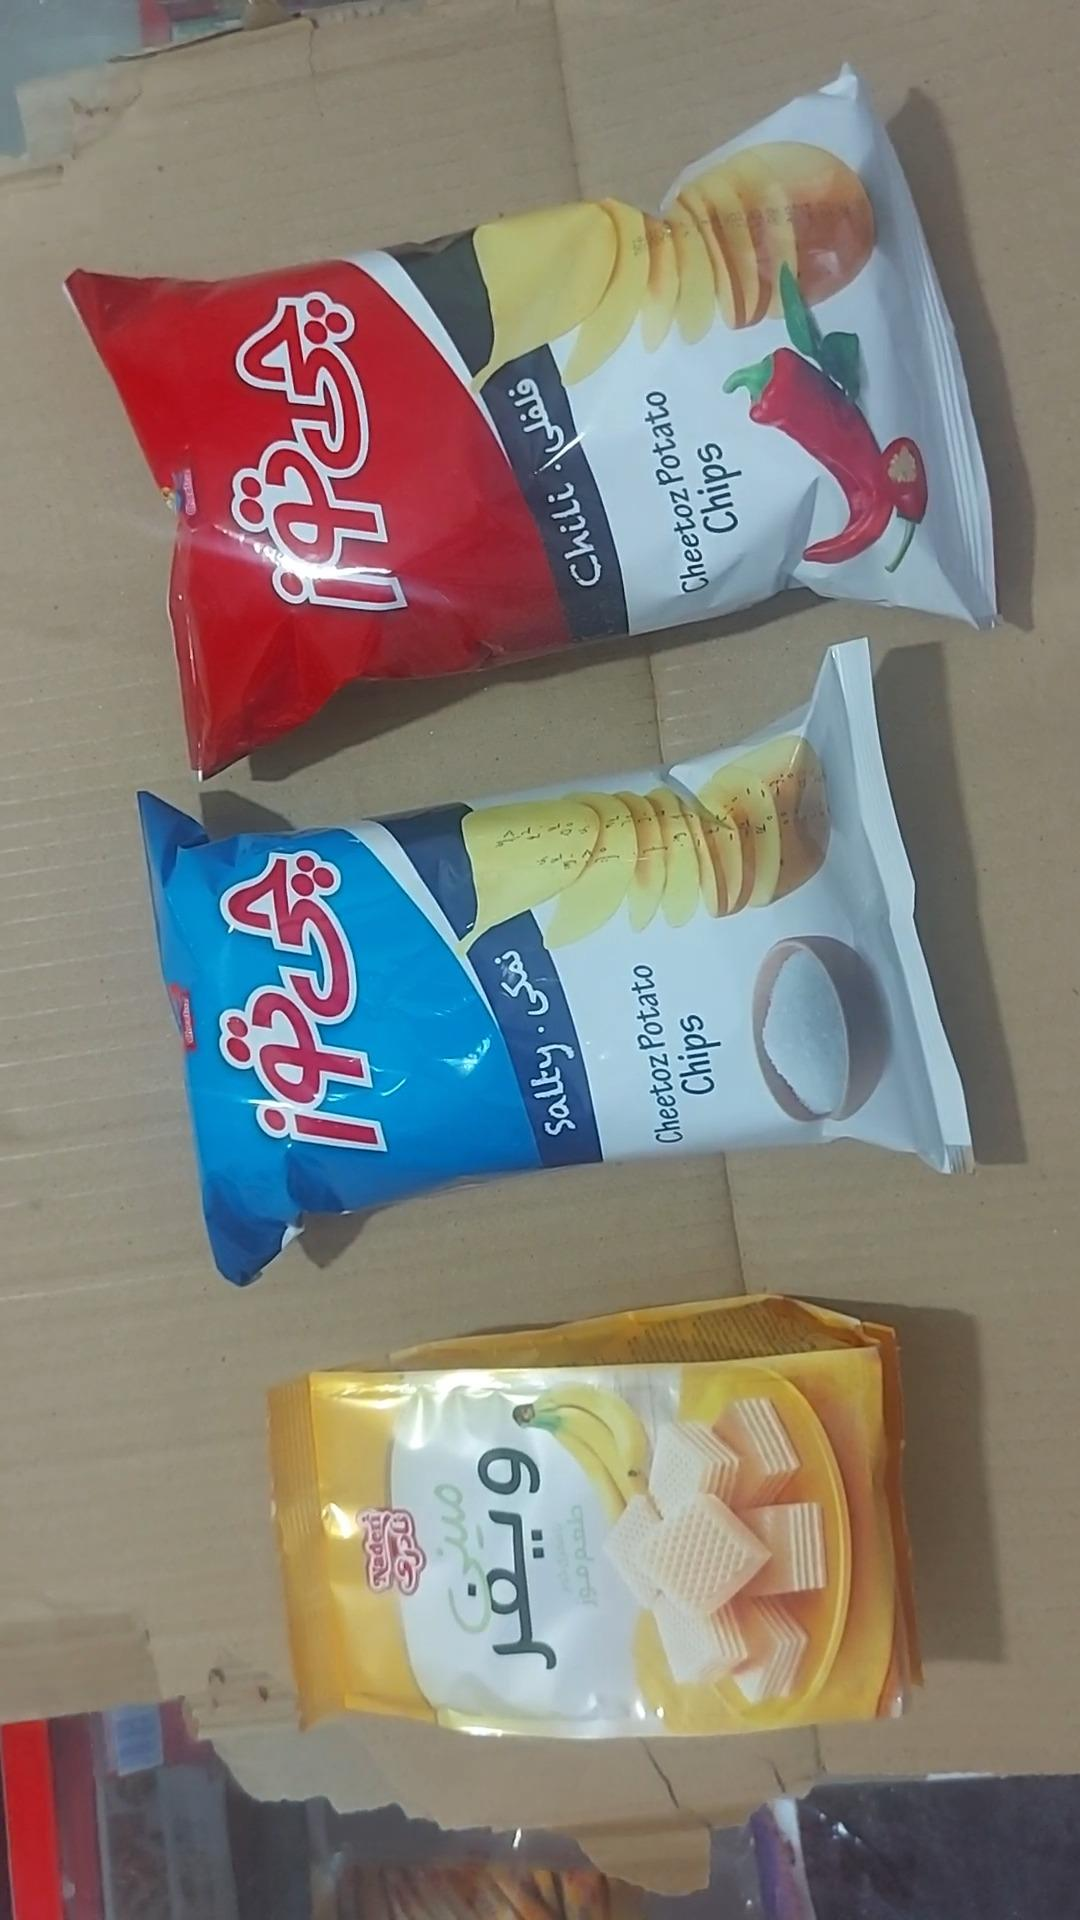Cheetoz chili chips: (62, 66, 997, 781)
Cheetoz salty chips: (136, 640, 975, 1290)
Naderi mini wafer: (265, 1294, 924, 1741)
